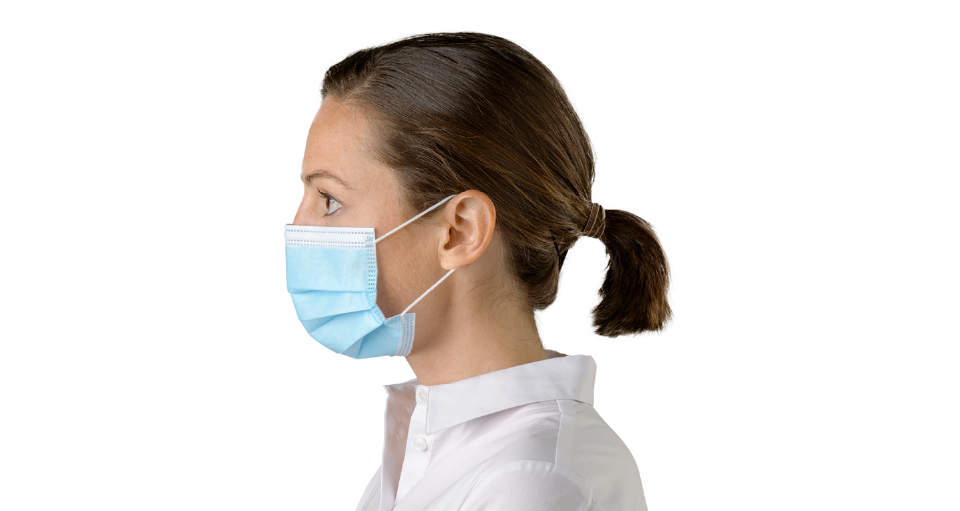Mask: (269, 221, 450, 363)
